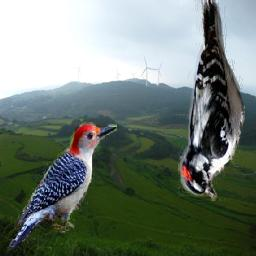Woodpecker: (9, 123, 117, 248), (179, 0, 246, 201)
